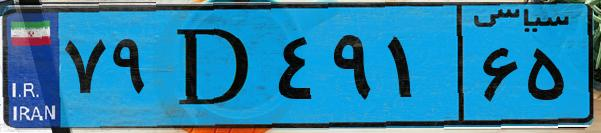1: (385, 28, 445, 110)
4: (270, 28, 330, 110)
5: (525, 38, 570, 115)
6: (475, 38, 525, 113)
7: (57, 26, 110, 100)
9: (330, 28, 385, 110), (110, 28, 158, 98)
D: (158, 12, 270, 120)
